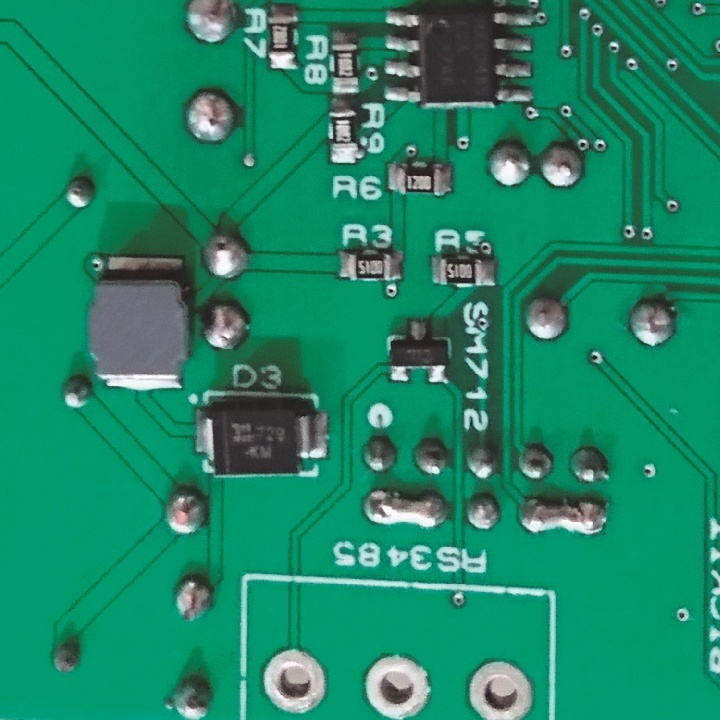F: (359, 652, 431, 717), (465, 655, 532, 720), (260, 649, 324, 715)
P: (515, 493, 609, 539), (361, 486, 448, 532)
